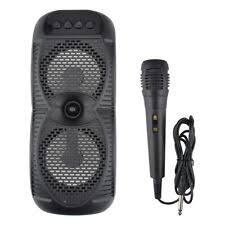microphone: (134, 56, 207, 216)
speaker: (24, 8, 120, 217)
